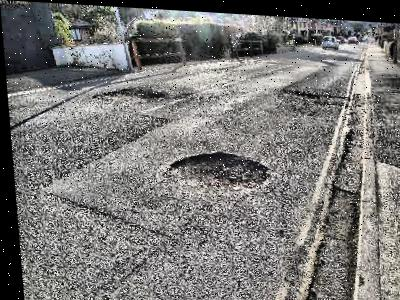pothole: (158, 144, 272, 195), (88, 82, 163, 103)
